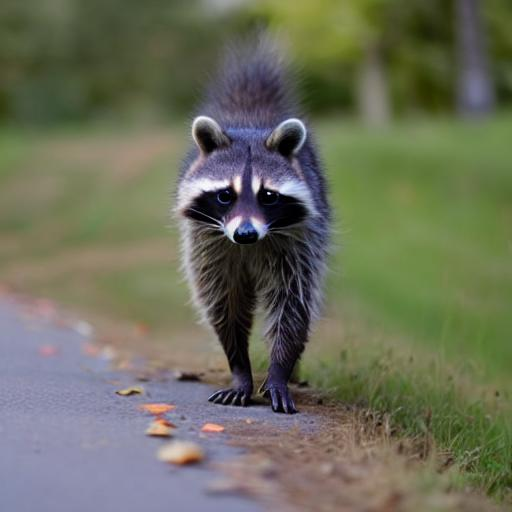raccoon: (168, 50, 341, 348)
